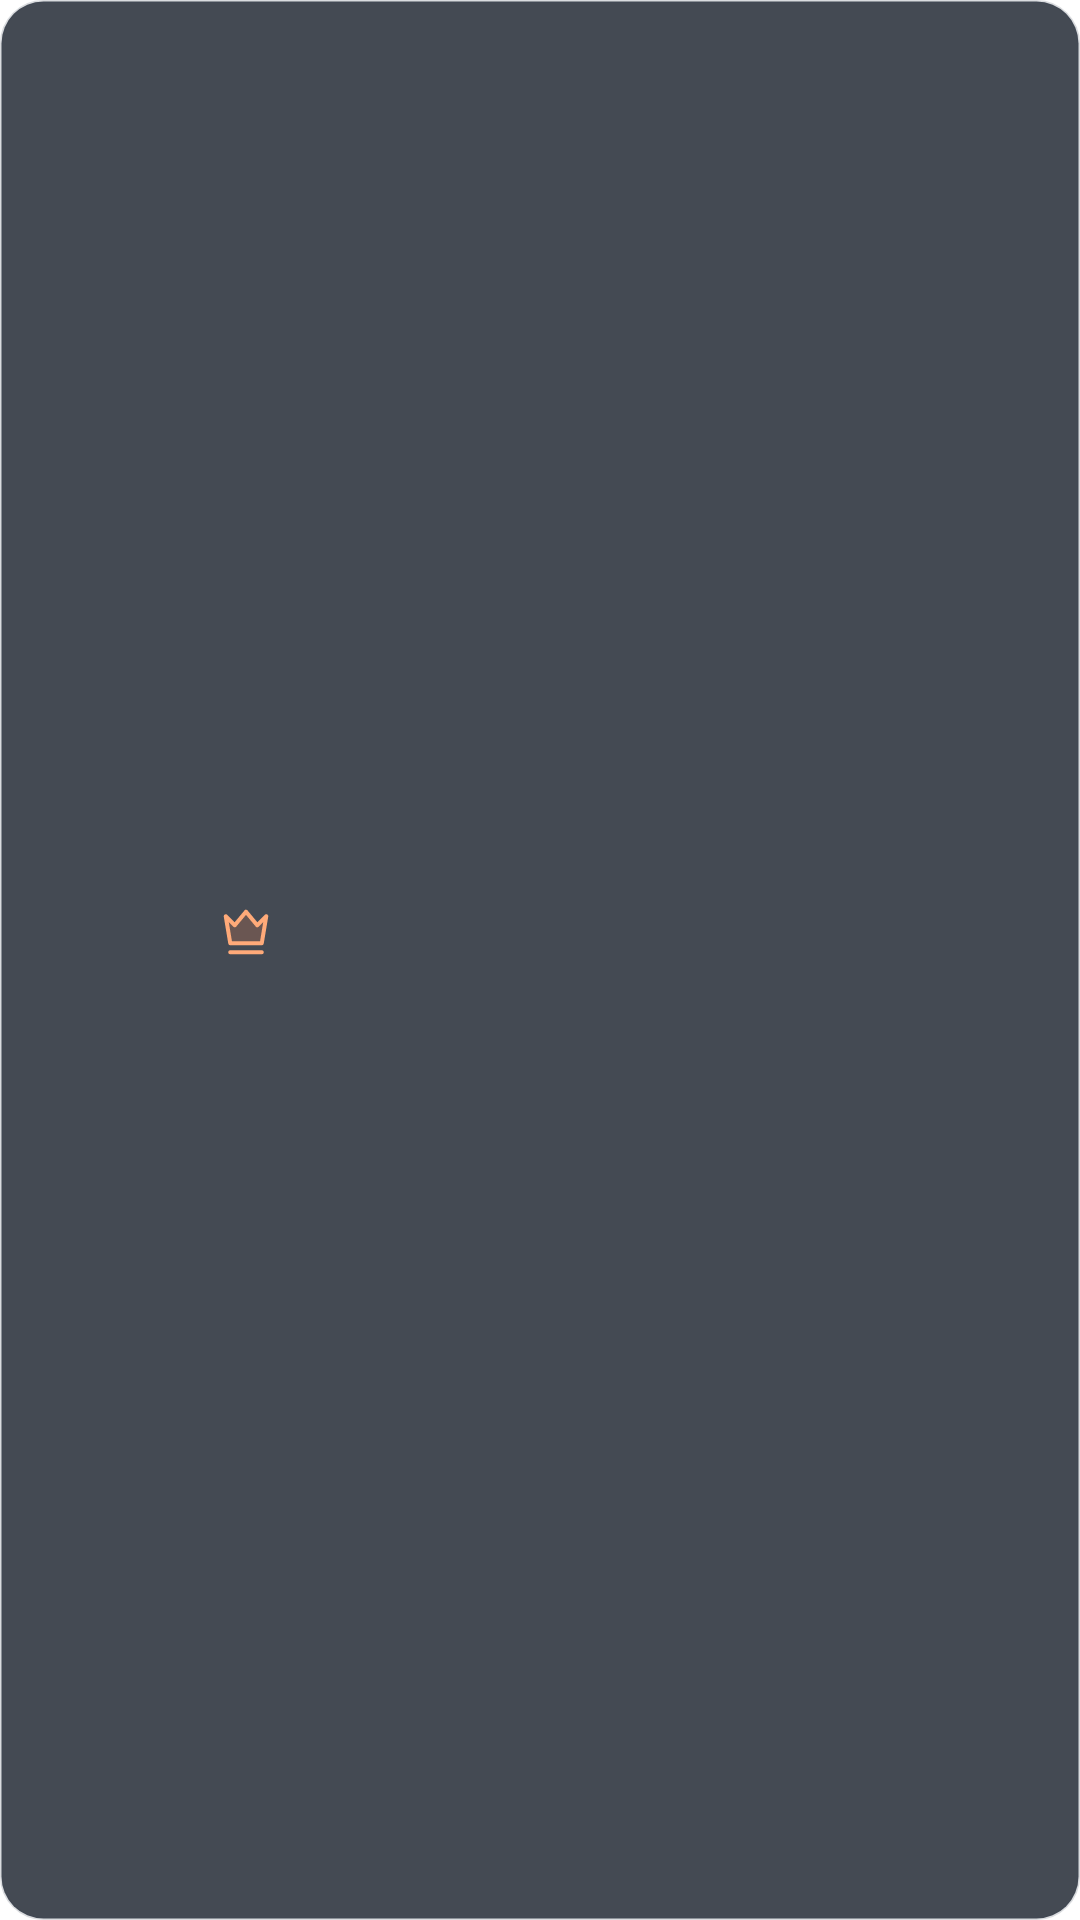

Icons on this 1080px x 1920px Android screen, each with its box as (left=x1, top=y1, right=x2, bottom=y2):
대표 캐릭터: (left=223, top=909, right=269, bottom=955)
